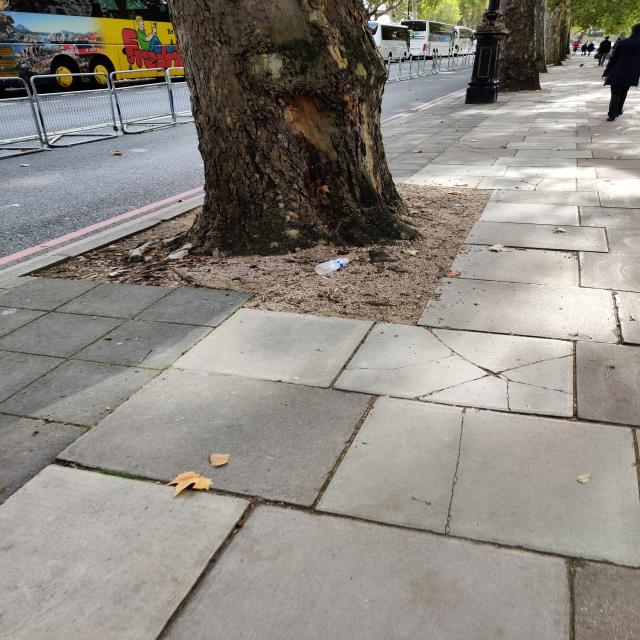litter: (315, 257, 347, 275), (344, 258, 349, 262)
